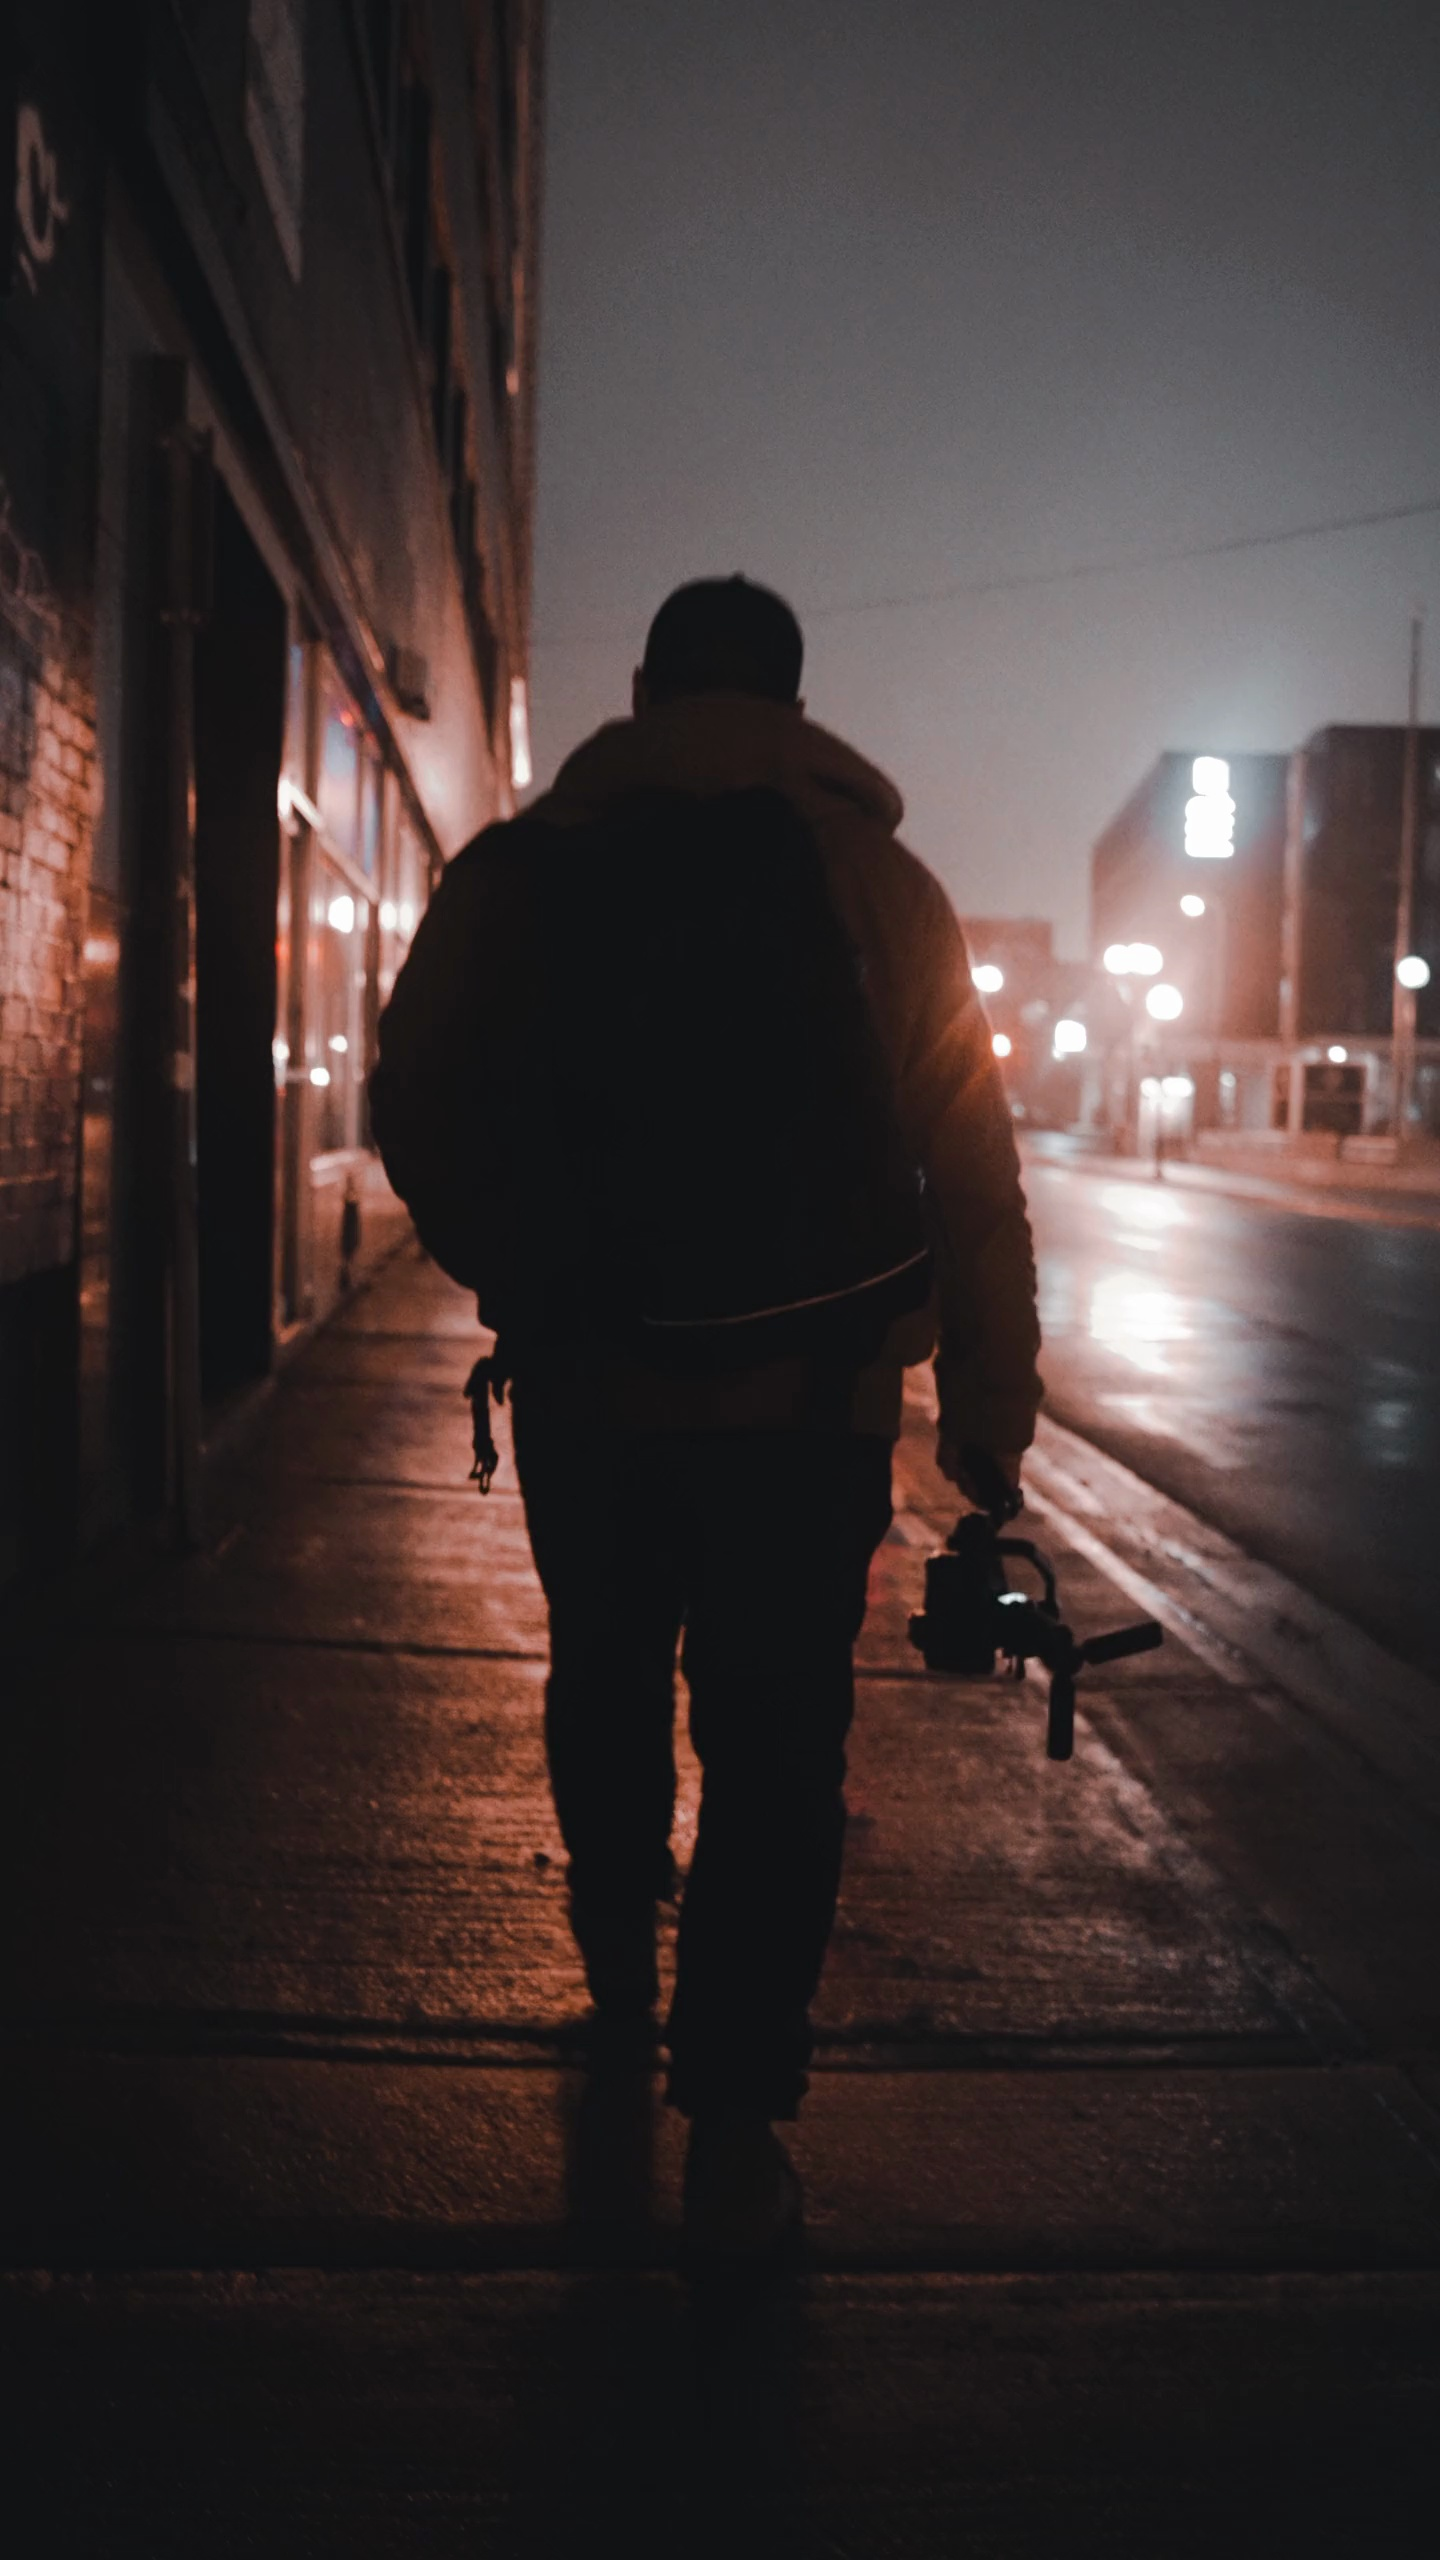person: (404, 553, 1053, 2144)
